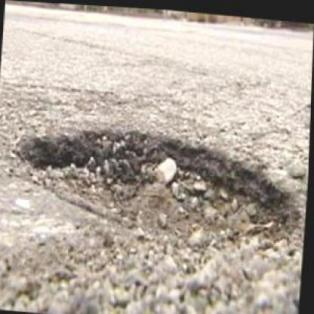Hueco: (11, 119, 308, 276)
